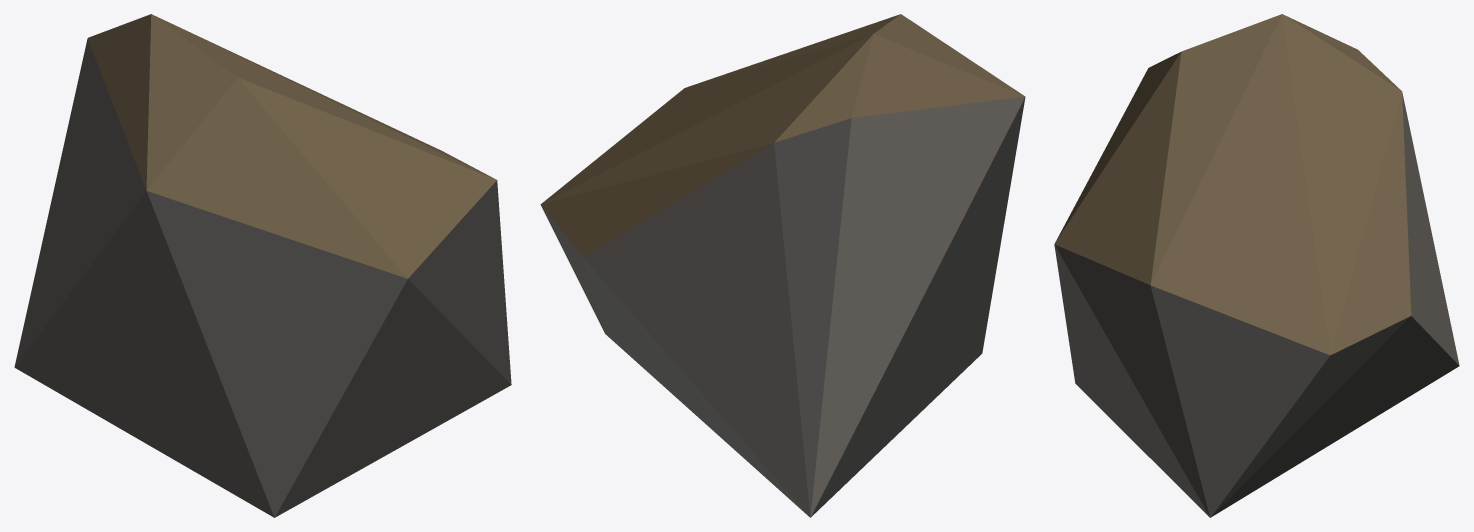
File: granite_scree_c.glb
3 views of the same model, side by side, from view 1: azimuth 30°, elevation 25°; view 2: azimuth 150°, elevation 25°; view 3: azimuth 270°, elevation 25° (orthographic). The views are drawn at different scales.
Visible parts, largest first — view 1: granite_scree_c; view 2: granite_scree_c; view 3: granite_scree_c.
Part boxes in pixels (box(x1,y1,x2,y2)): granite_scree_c: box(14, 14, 511, 517); granite_scree_c: box(540, 14, 1025, 517); granite_scree_c: box(1054, 14, 1459, 517).
Bounding box in the file's own units: 1 × 1 × 1.
